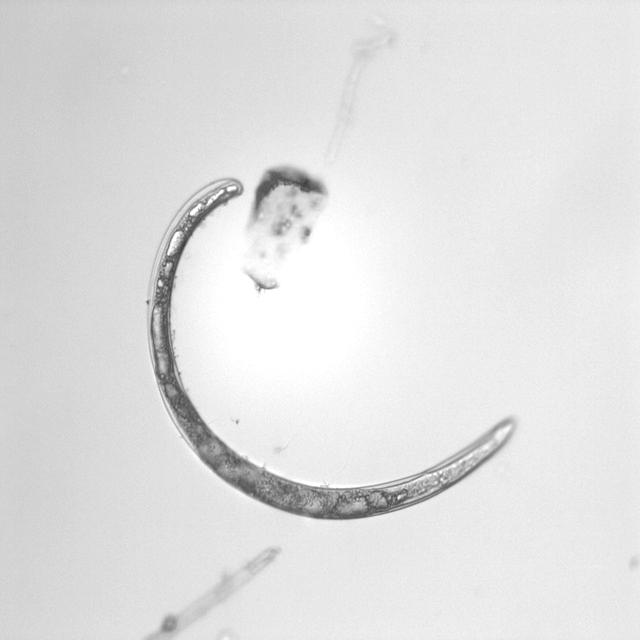Helicotylenchus: (143, 178, 520, 521)
